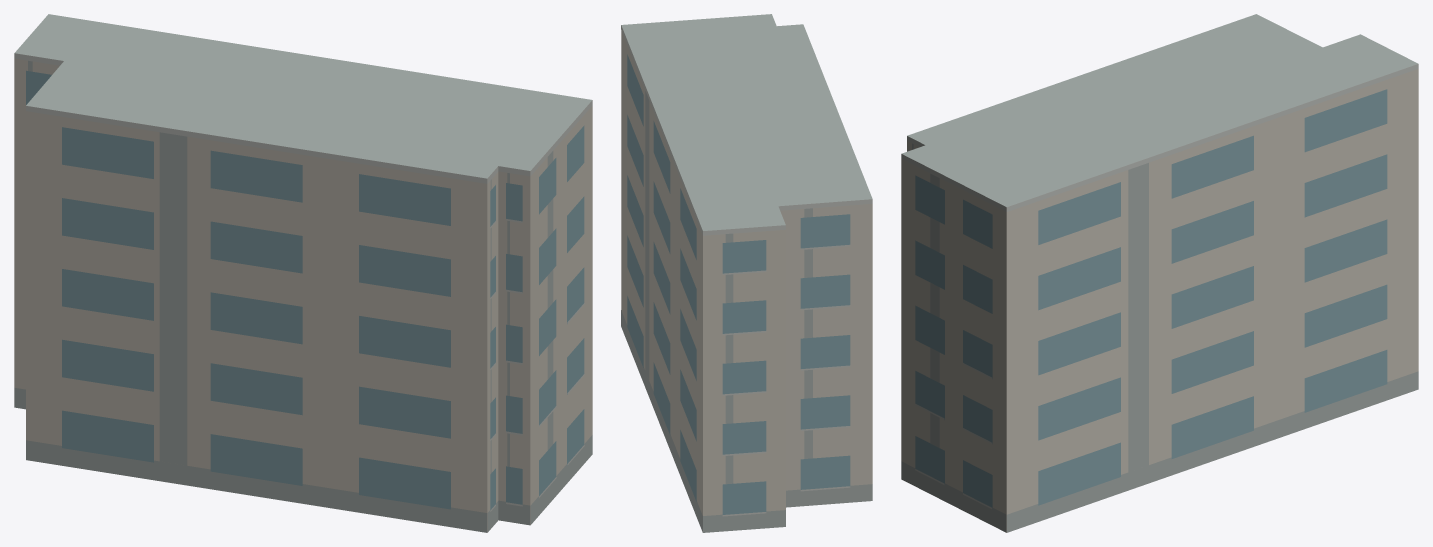
Rendered from survey-upis-32582339.glb.
3 views of the same model, side by side, from view 1: azimuth 30°, elevation 25°; view 2: azimuth 150°, elevation 25°; view 3: azimuth 270°, elevation 25° (orthographic). The views are drawn at different scales.
Visible parts, largest first — view 1: survey-upis-32582339.tmp; view 2: survey-upis-32582339.tmp; view 3: survey-upis-32582339.tmp.
Part boxes in pixels (x1,y1,x2,y2): survey-upis-32582339.tmp: (14, 14, 592, 532); survey-upis-32582339.tmp: (621, 14, 872, 532); survey-upis-32582339.tmp: (901, 14, 1418, 532).
Bounding box in the file's own units: 20.38 × 16 × 23.04.
